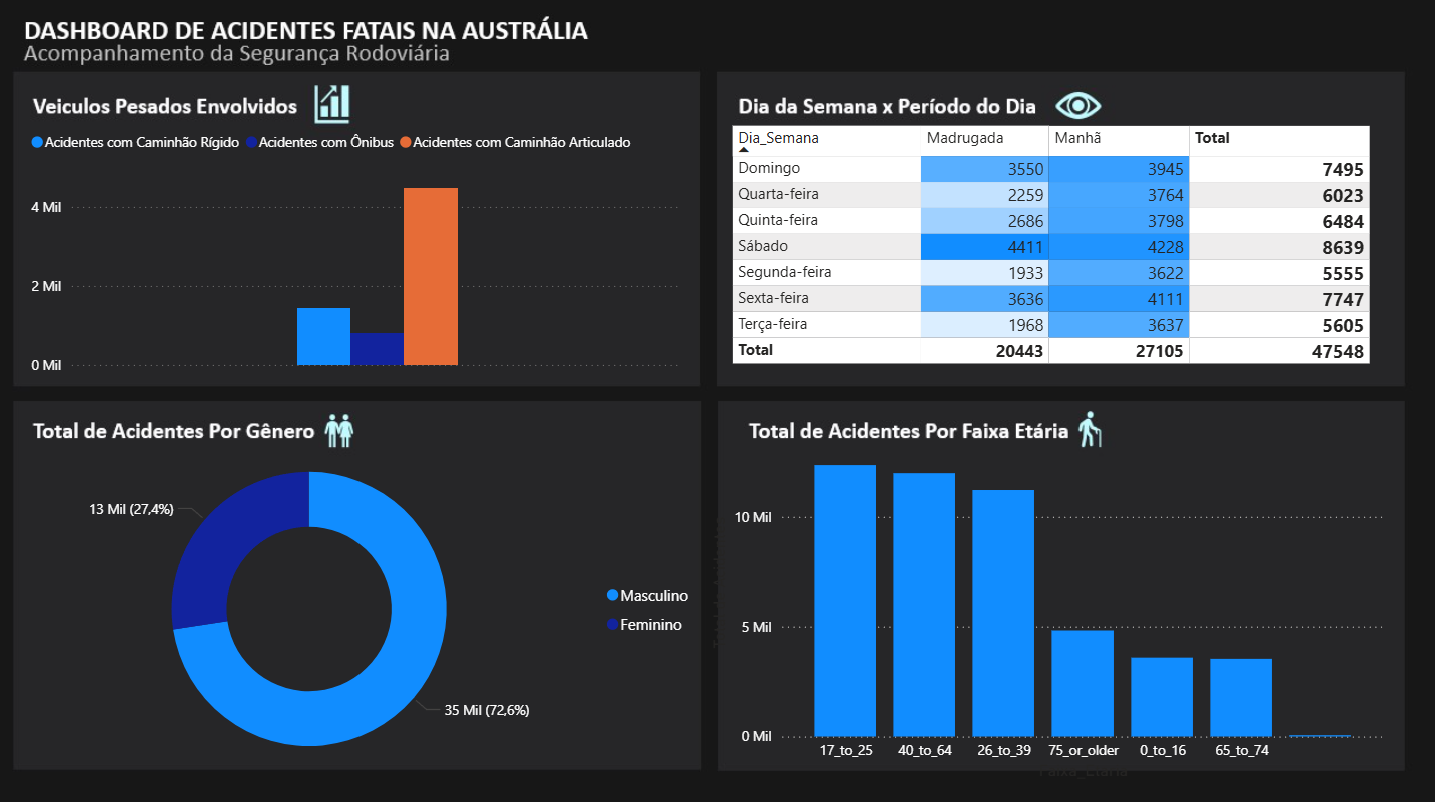

Layout of this report page (visuals, bound fields, positions):
{"tool":"powerbi","page":{"name":"Página 2","canvas":[1280,720],"ordinal":1},"visuals":[{"type":"columnChart","fields":{"Category":["dataset_limpo1.Faixa_Etaria"],"Y":["dataset_limpo1.Total de Acidentes"]},"box":[628.4,368.2,606.3,329.9],"z":0},{"type":"donutChart","fields":{"Category":["dataset_limpo1.Genero"],"Y":["dataset_limpo1.Total de Acidentes"]},"box":[10.5,375.2,617.9,333.4],"z":1000},{"type":"pivotTable","fields":{"Rows":["dataset_limpo1.Dia_Semana"],"Columns":["dataset_limpo1.Periodo_do_Dia"],"Values":["dataset_limpo1.Total de Acidentes"]},"box":[648.1,109.2,586.6,231.1],"z":2000},{"type":"clusteredColumnChart","fields":{"Y":["dataset_limpo1.Acidentes com Caminhão Rígido","dataset_limpo1.Acidentes com Ônibus","dataset_limpo1.Acidentes com Caminhão Articulado"]},"box":[26.7,109.2,586.6,231.1],"z":3000}]}

Visuals, with their boxes in screenshot pixels (x1, y1, x2, y2), scaled from the page's 1280x720 canvas onto the 1435x802 screenshot:
columnChart - dataset_limpo1.Faixa_Etaria x dataset_limpo1.Total de Acidentes: <box>704,410,1384,778</box>
donutChart - dataset_limpo1.Genero x dataset_limpo1.Total de Acidentes: <box>12,418,704,789</box>
pivotTable - dataset_limpo1.Dia_Semana x dataset_limpo1.Periodo_do_Dia: <box>727,122,1384,379</box>
clusteredColumnChart - dataset_limpo1.Acidentes com Caminhão Rígido x dataset_limpo1.Acidentes com Ônibus: <box>30,122,688,379</box>
